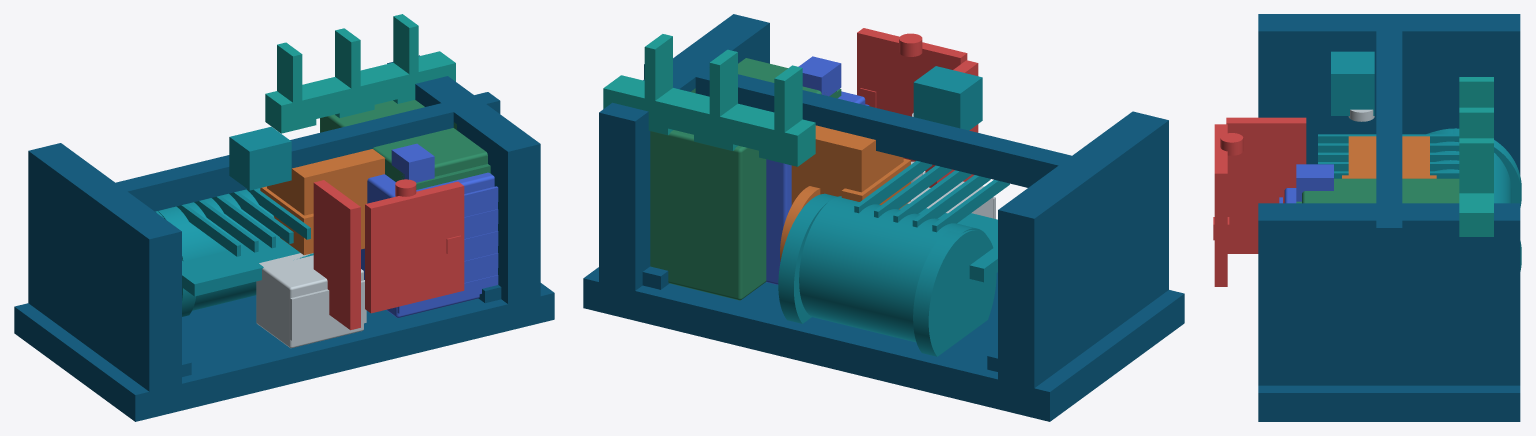
The model's file is regenport_service.glb.
The picture shows the model from 3 angles, left to right: view 1: azimuth 30°, elevation 25°; view 2: azimuth 150°, elevation 25°; view 3: azimuth 270°, elevation 25°; orthographic projection. The views are drawn at different scales.
Visible parts, largest first — view 1: regenport.load_crane_interface, regenport.service_emergency_access, regenport.motor_generator, regenport.dc_link, regenport.converter_inverter, regenport.controller_sensors, regenport.transmission_brake_path, regenport.storage_buffer; view 2: regenport.load_crane_interface, regenport.motor_generator, regenport.storage_buffer, regenport.dc_link, regenport.transmission_brake_path, regenport.service_emergency_access, regenport.converter_inverter, regenport.controller_sensors; view 3: regenport.load_crane_interface, regenport.service_emergency_access, regenport.motor_generator, regenport.dc_link, regenport.storage_buffer, regenport.transmission_brake_path, regenport.converter_inverter, regenport.controller_sensors.
Boxes of the visible parts, left/top/right/bottom form: regenport.load_crane_interface: left=14, top=55, right=554, bottom=421; regenport.service_emergency_access: left=313, top=179, right=464, bottom=330; regenport.motor_generator: left=155, top=126, right=313, bottom=316; regenport.dc_link: left=265, top=14, right=455, bottom=133; regenport.converter_inverter: left=361, top=143, right=498, bottom=317; regenport.controller_sensors: left=256, top=253, right=366, bottom=348; regenport.transmission_brake_path: left=260, top=149, right=385, bottom=255; regenport.storage_buffer: left=320, top=100, right=490, bottom=189; regenport.load_crane_interface: left=583, top=14, right=1184, bottom=421; regenport.motor_generator: left=778, top=66, right=1009, bottom=356; regenport.storage_buffer: left=650, top=58, right=841, bottom=300; regenport.dc_link: left=603, top=34, right=815, bottom=166; regenport.transmission_brake_path: left=780, top=125, right=910, bottom=261; regenport.service_emergency_access: left=857, top=28, right=978, bottom=187; regenport.converter_inverter: left=766, top=56, right=869, bottom=284; regenport.controller_sensors: left=907, top=113, right=995, bottom=218; regenport.load_crane_interface: left=1258, top=14, right=1520, bottom=421; regenport.service_emergency_access: left=1213, top=117, right=1306, bottom=286; regenport.motor_generator: left=1318, top=51, right=1521, bottom=271; regenport.dc_link: left=1459, top=77, right=1493, bottom=236; regenport.storage_buffer: left=1296, top=178, right=1459, bottom=203; regenport.transmission_brake_path: left=1342, top=136, right=1436, bottom=178; regenport.converter_inverter: left=1279, top=164, right=1333, bottom=203; regenport.controller_sensors: left=1348, top=109, right=1374, bottom=121.
Size of the model in its own units: 3600 by 1940 by 2120.
